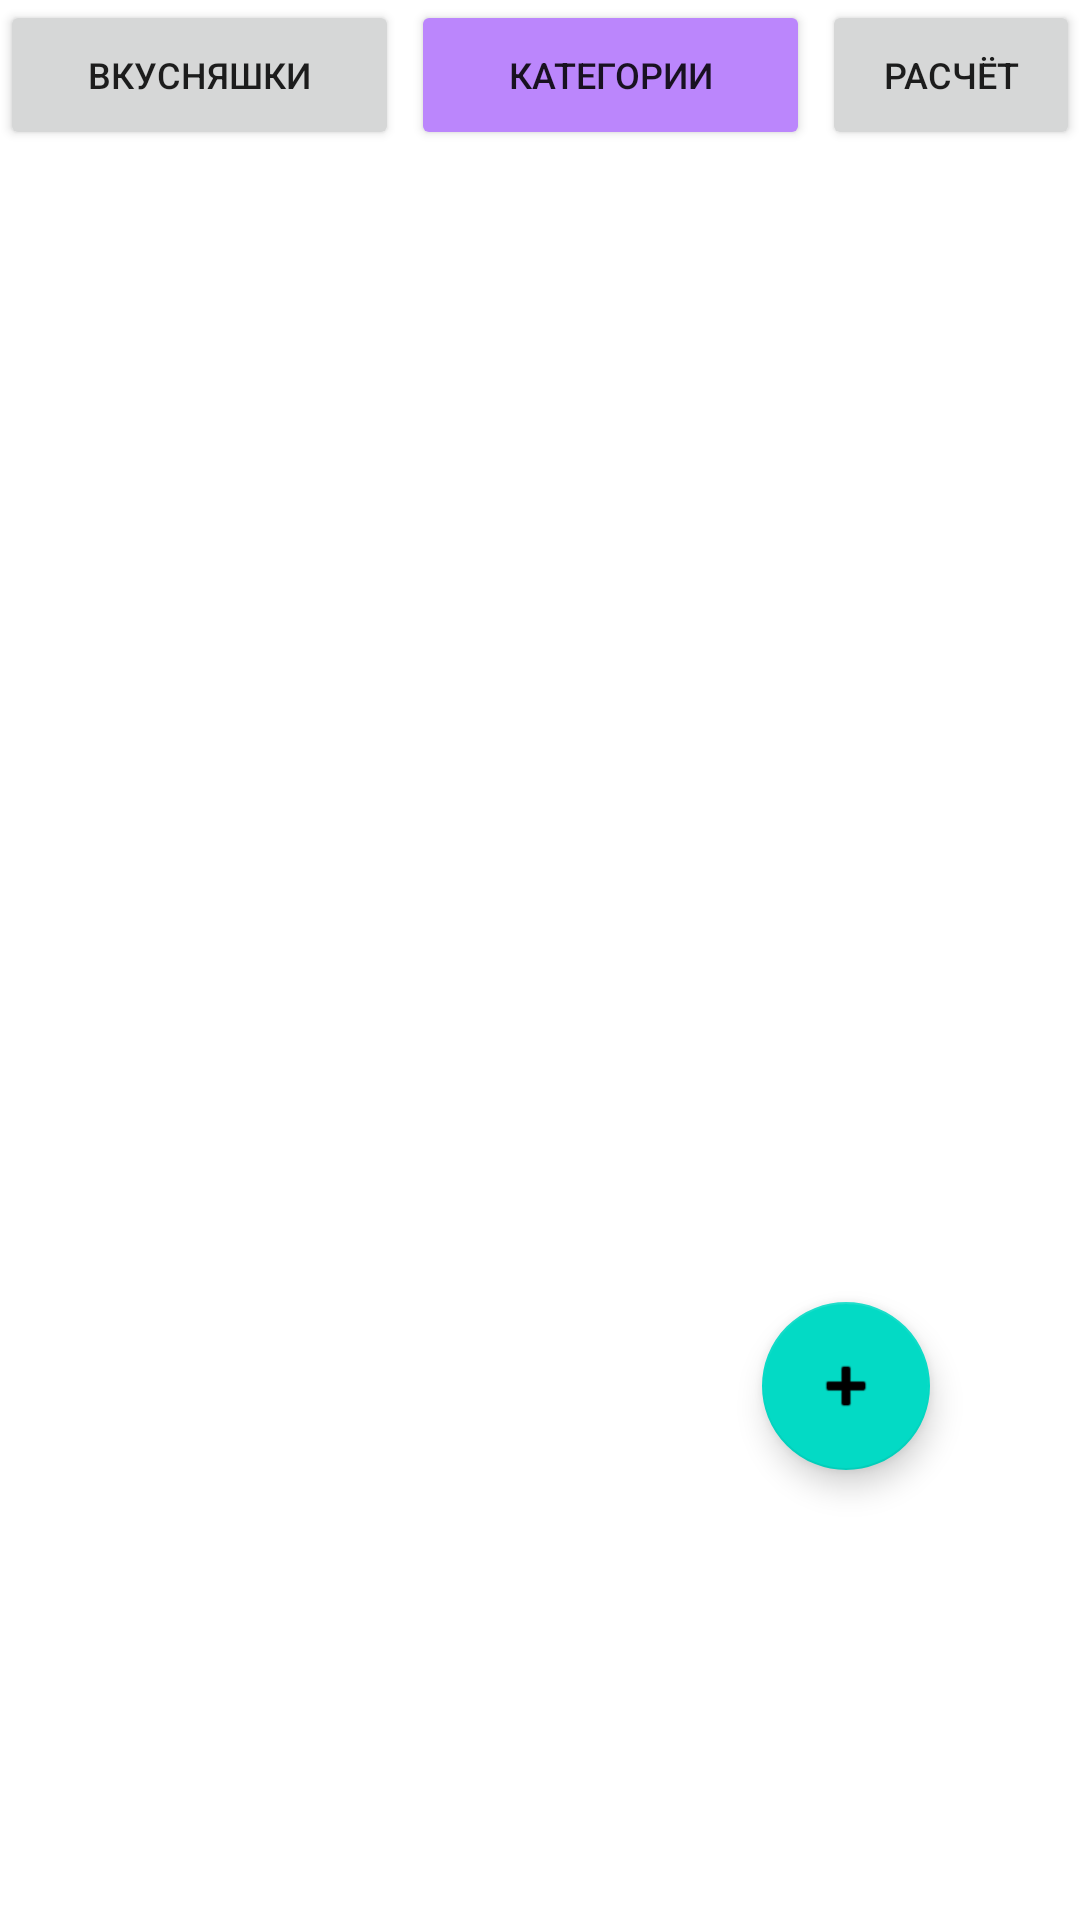

Icons on this 1080x1920 Android screen, each with its box as (x1, y1, x2, y2):
add: (762, 1302, 930, 1470)
